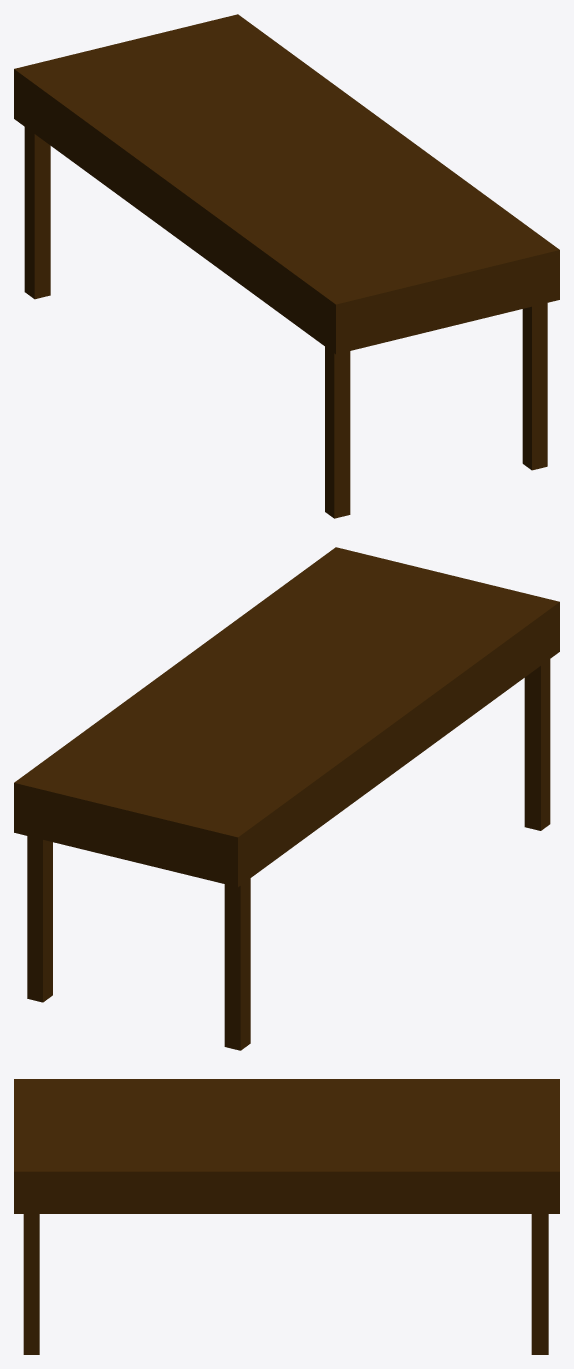
Rendered from mesa.gltf.
3 renders of one model, top to bottom at view 1: azimuth 30°, elevation 25°; view 2: azimuth 150°, elevation 25°; view 3: azimuth 270°, elevation 25°, orthographic. The views are drawn at different scales.
Visible parts, largest first — view 1: pCube2; view 2: pCube2; view 3: pCube2.
Boxes of the visible parts, <box> form: pCube2: <box>14,14,559,518</box>; pCube2: <box>14,547,559,1050</box>; pCube2: <box>14,1079,559,1354</box>.
Size of the model in its own units: 157 by 147 by 392.
